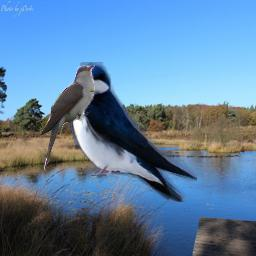Cuckoo: (39, 65, 95, 172)
Swallow: (69, 62, 197, 202)
